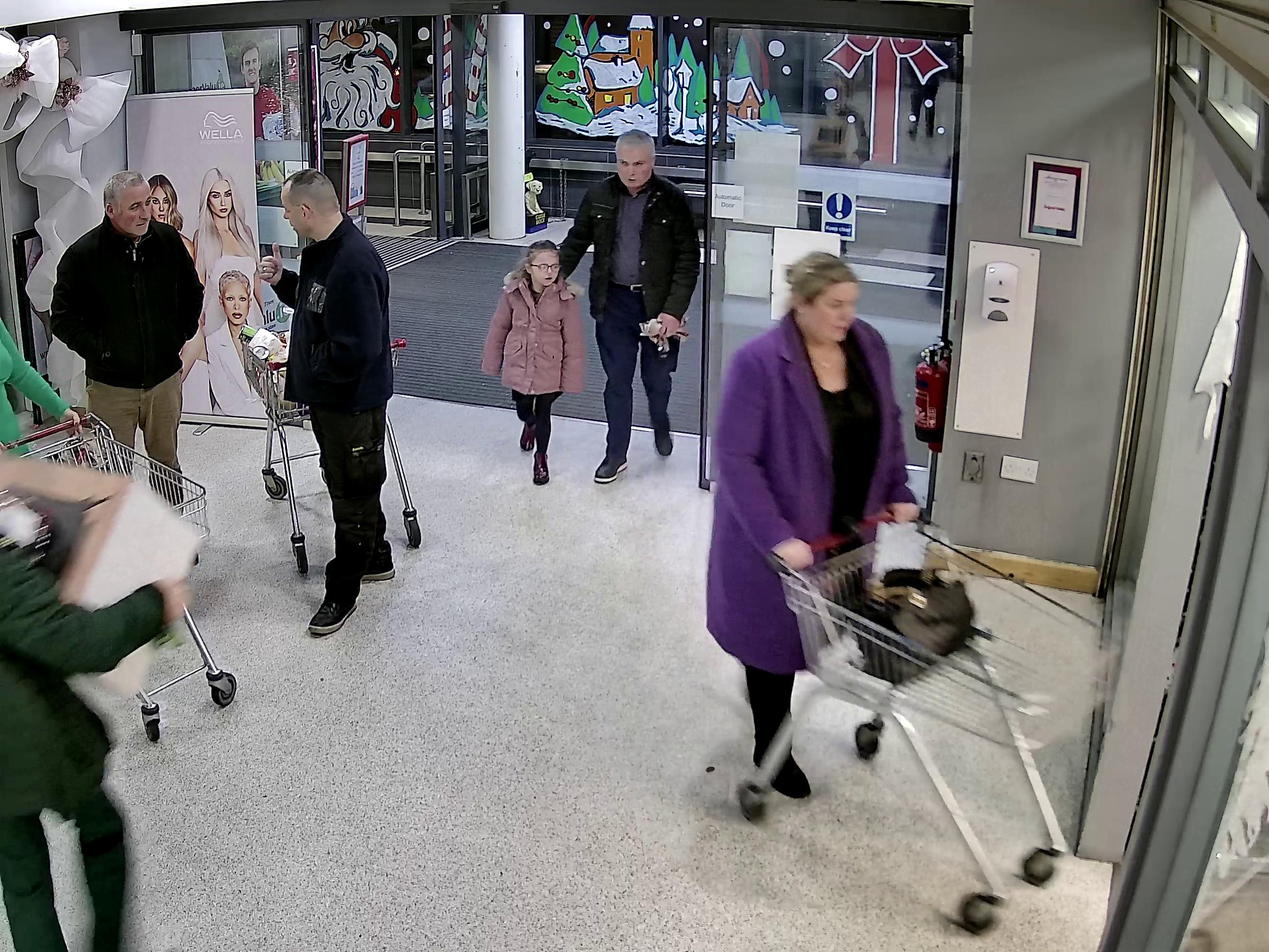backpack-or-handbag: (838, 560, 979, 682)
empty-shopping-bags: (639, 313, 688, 357)
empty-trolly: (735, 503, 1127, 935)
filled-trolly: (239, 320, 422, 572)
person: (709, 250, 920, 798), (259, 168, 394, 639), (558, 129, 700, 485)
person-with-basket-trolly-and-backpack-handbag: (709, 249, 1128, 935)
person-with-empty-shopping-bag-s-: (557, 129, 701, 482)
person-with-filled-basket-trolly: (239, 167, 422, 641)
